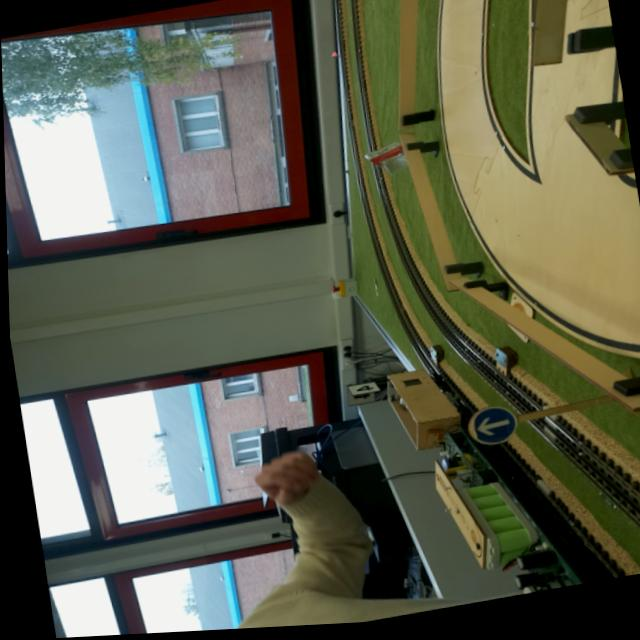panneau_sens_unique: (465, 406, 519, 443)
